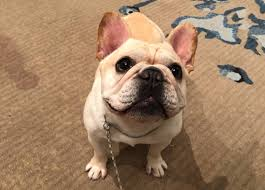Bulldog: (87, 8, 193, 189)
